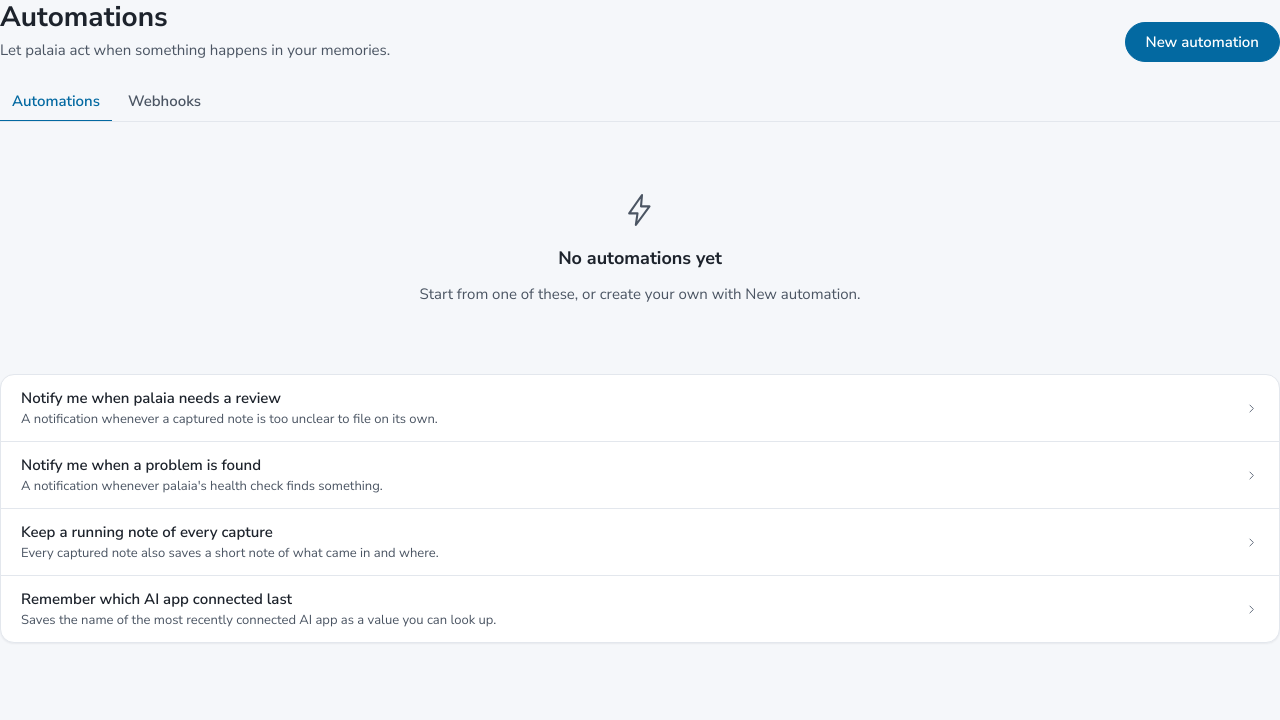
Test case: Automations (SPEC-307, issue 570) › offers recipes on an empty list; one opens New automation prefilled
Expected: the heading "No automations yet" is shown, [558,246,722,270]
Click the button "Notify me when palaia needs a review": {"x": 151, "y": 398} [1,375,1279,442]
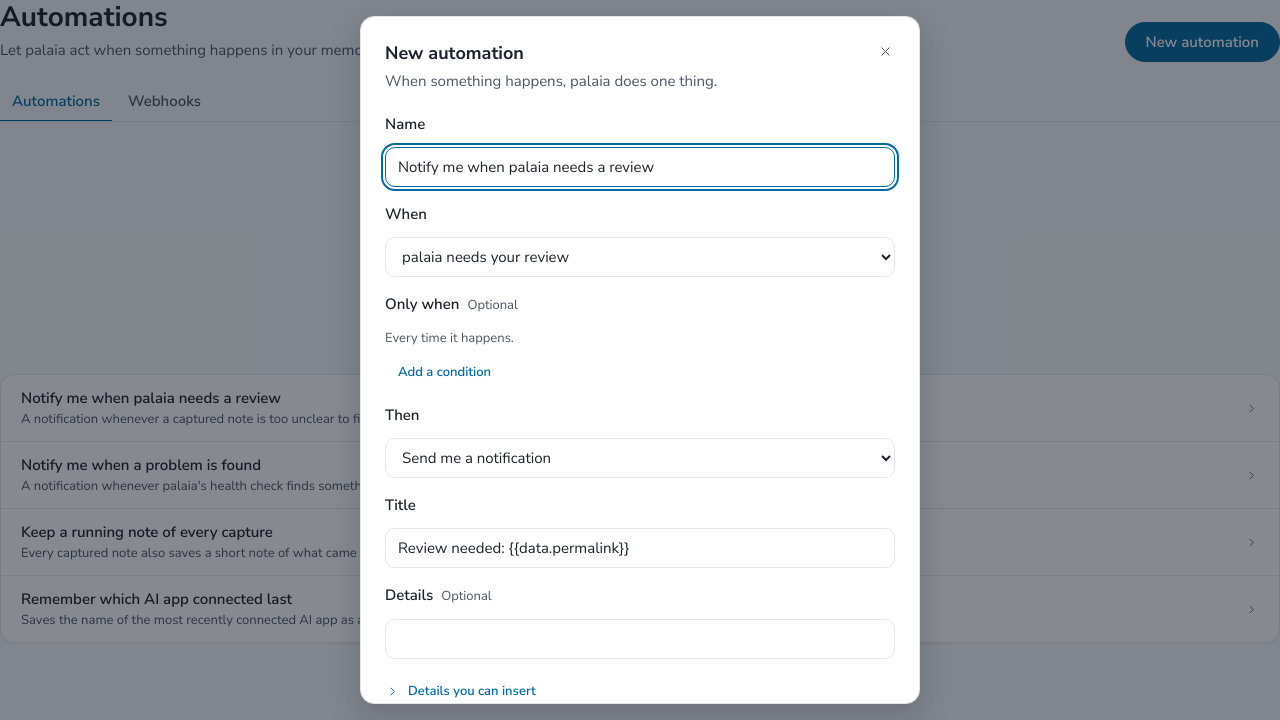
Expected: the field showing "notify me when palaia needs a review" is shown, [385,147,895,187]
